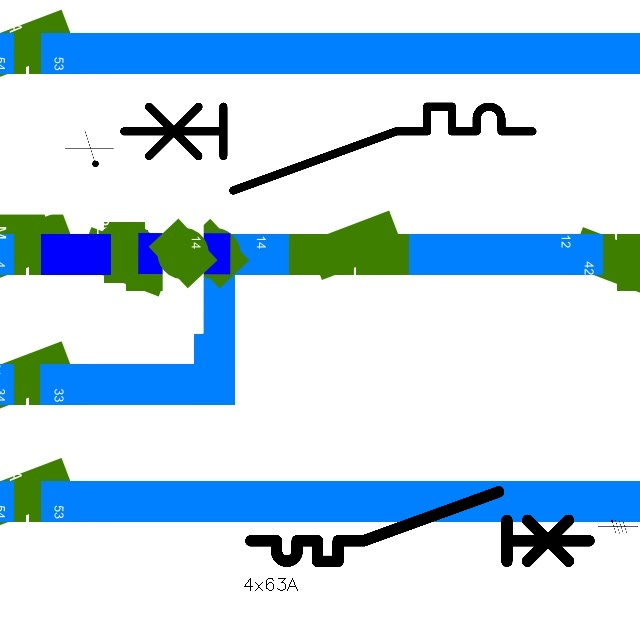interruptor_termomagnetico: (113, 96, 543, 201), (242, 483, 598, 570)
